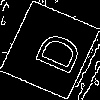D: (24, 25, 84, 78)
